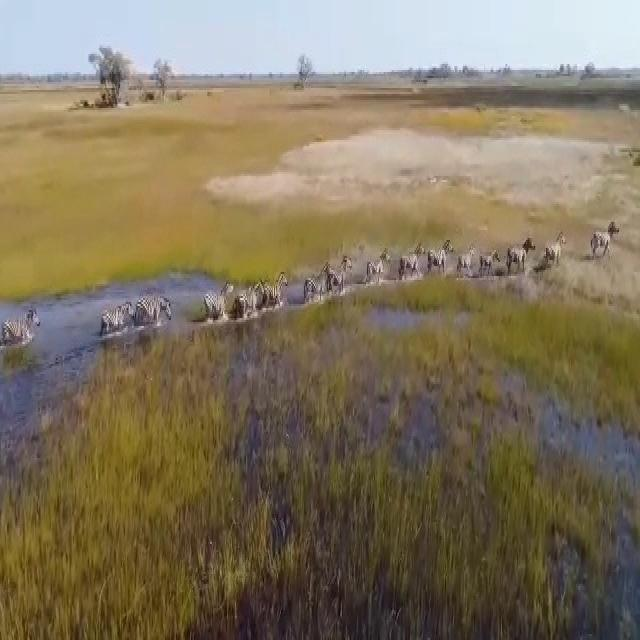4: (303, 263, 330, 307)
Zebra: (0, 305, 44, 360), (203, 282, 236, 333), (239, 270, 266, 330), (264, 264, 296, 314), (542, 224, 570, 277), (504, 236, 534, 283), (588, 219, 622, 260), (132, 296, 175, 328), (302, 265, 332, 310), (424, 236, 454, 280), (98, 302, 136, 333), (364, 249, 393, 288), (399, 244, 422, 290), (330, 250, 352, 293), (456, 243, 480, 279), (478, 249, 502, 285)
